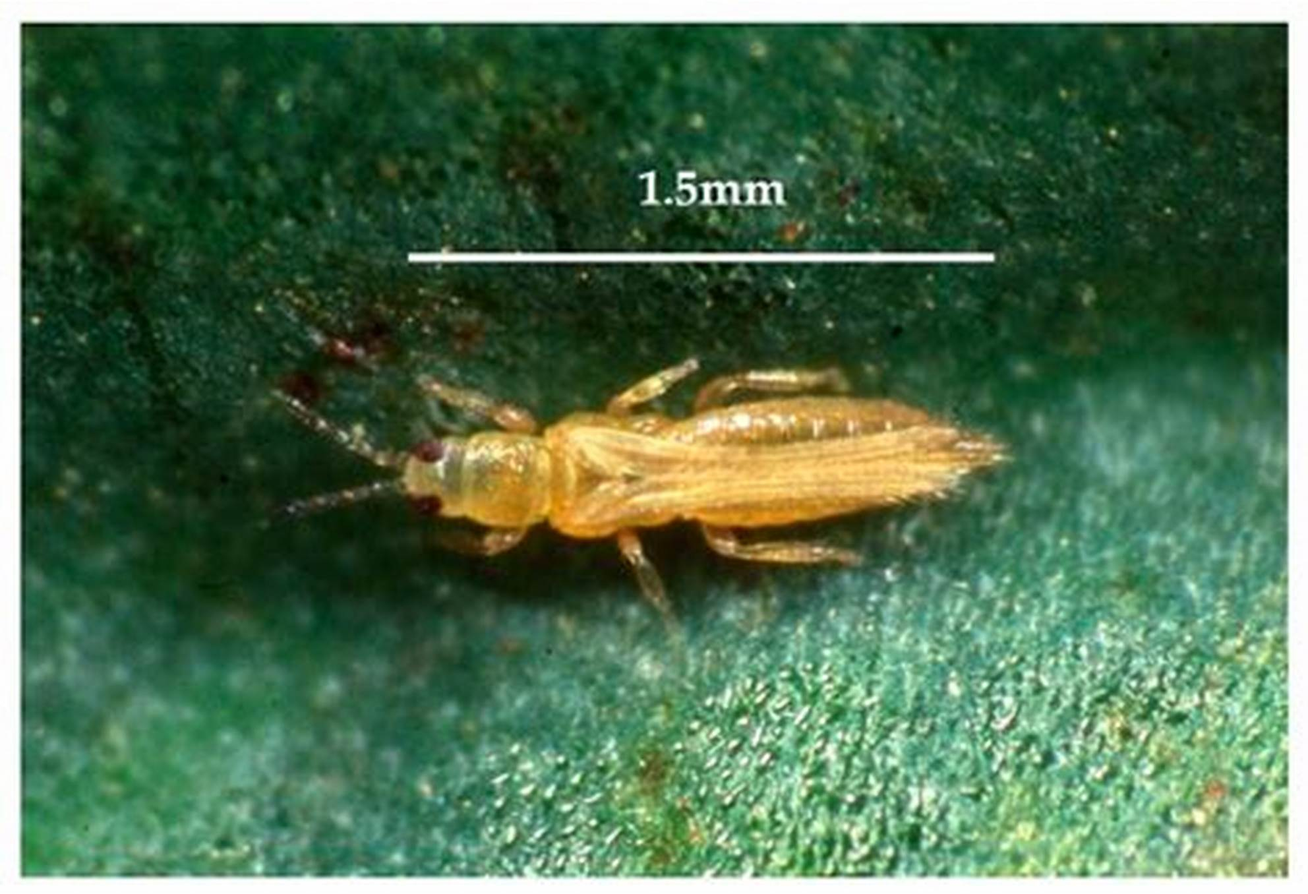Thripidae: (249, 345, 1008, 558)
